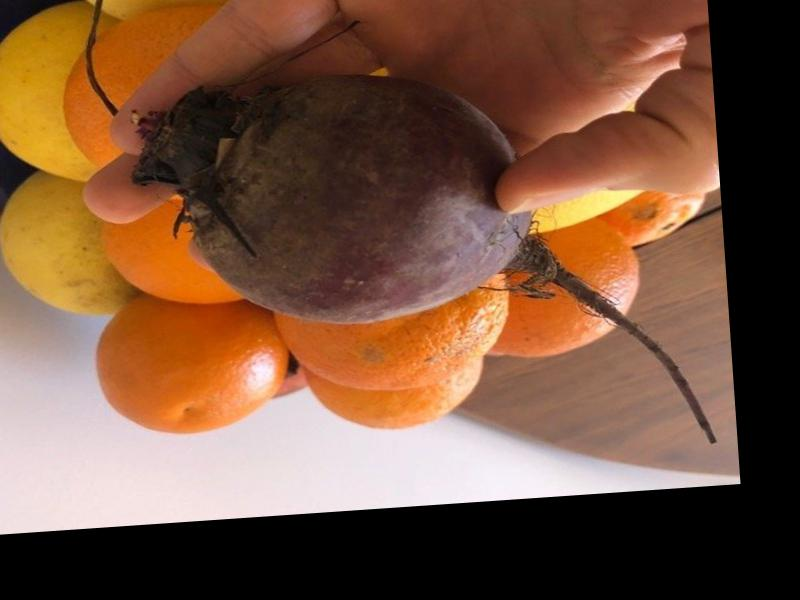Beet: (135, 51, 715, 481)
